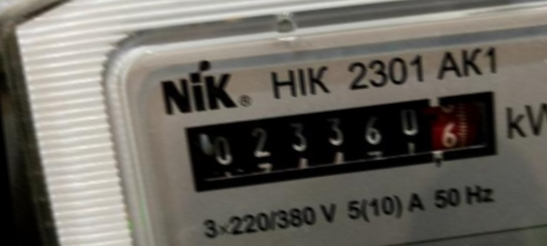0: (209, 130, 234, 165), (398, 103, 419, 136)
2: (246, 122, 273, 159)
3: (284, 118, 309, 152), (323, 112, 345, 145)
6: (359, 111, 382, 145), (435, 116, 459, 147)
screen: (164, 69, 515, 208)
